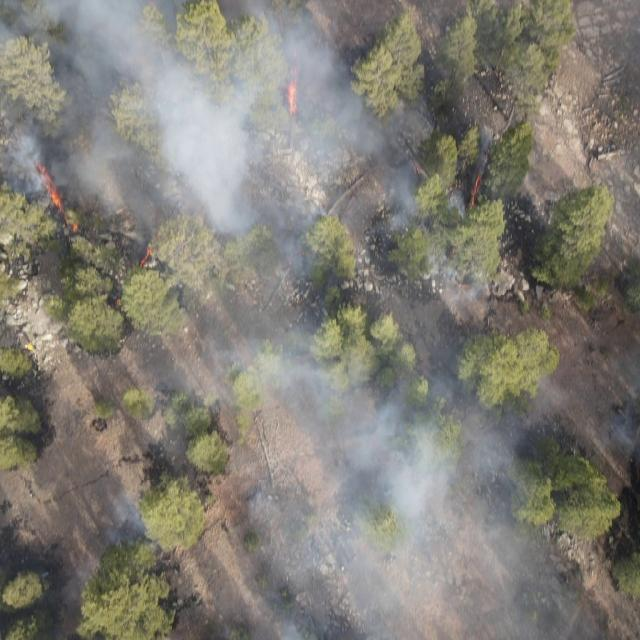fire: (35, 156, 80, 239), (282, 71, 304, 121), (462, 172, 484, 209), (134, 238, 156, 270), (412, 159, 429, 186), (456, 278, 472, 294), (112, 294, 124, 308)
smoke: (0, 0, 429, 282), (142, 328, 554, 540), (246, 540, 624, 640), (416, 120, 512, 332), (57, 500, 156, 608), (605, 361, 640, 465)
